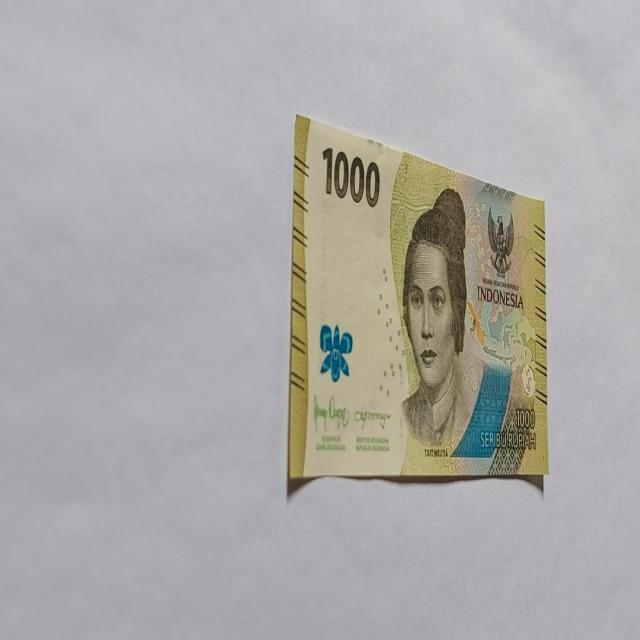seribu rupiah kertas: (287, 112, 548, 490)
